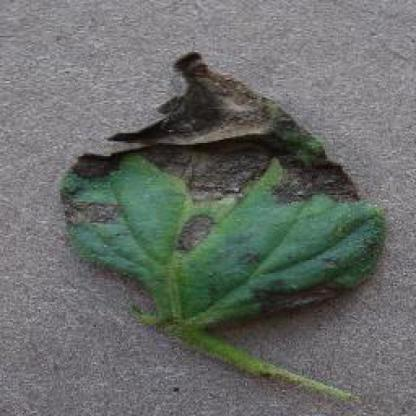Tomato_Blight: (62, 54, 380, 320)
